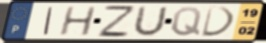D: (200, 6, 238, 38)
H: (57, 6, 98, 37)
I: (42, 6, 55, 36)
Q: (169, 6, 203, 38)
U: (130, 5, 169, 38)
Z: (97, 4, 136, 39)
